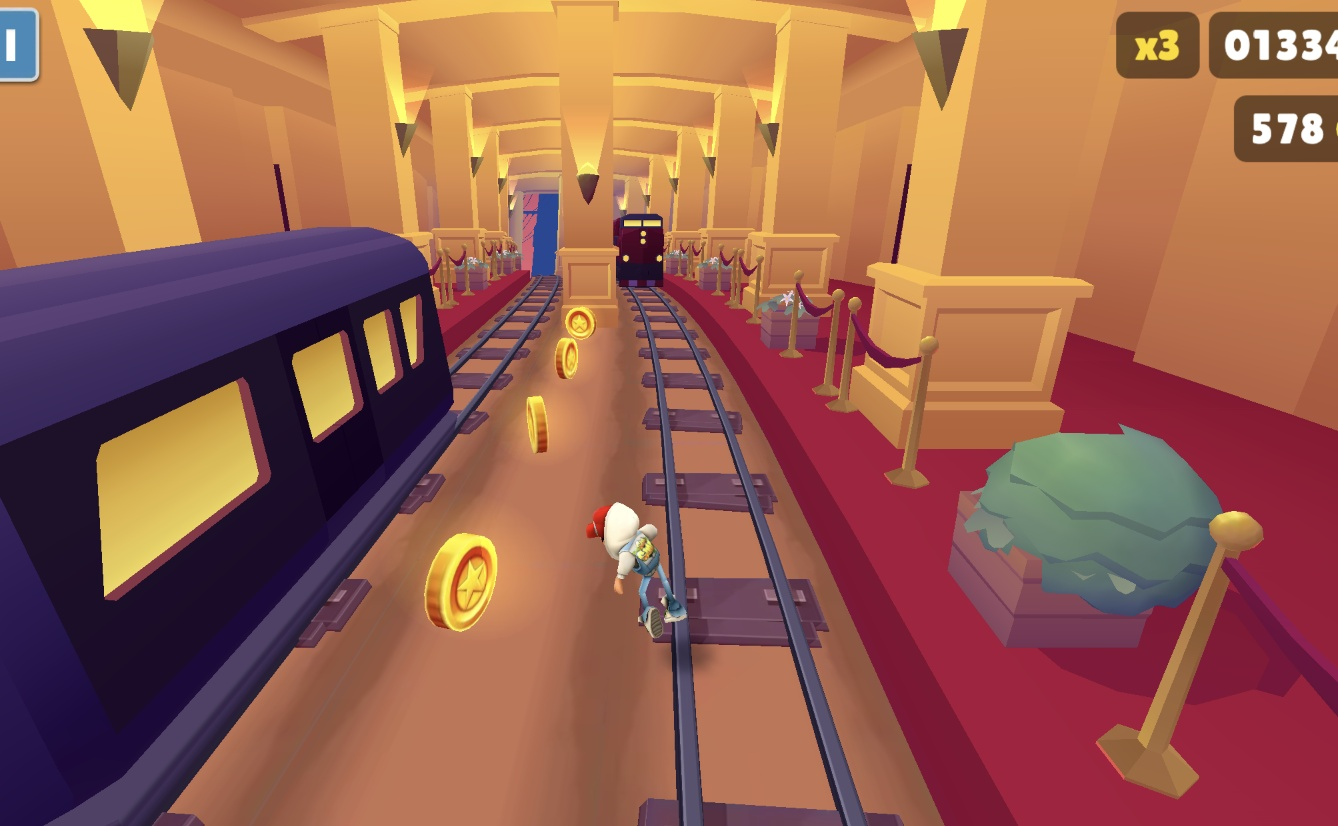pillar: (557, 0, 619, 327)
train: (0, 230, 467, 826), (614, 215, 664, 294)
